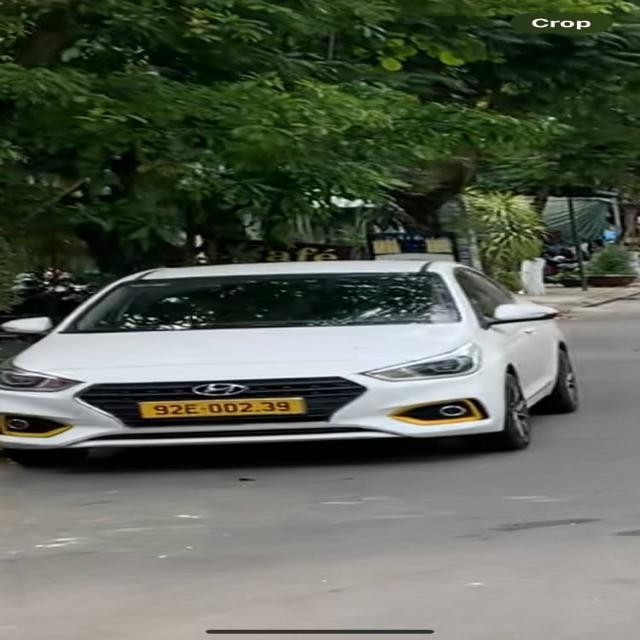car: (0, 247, 592, 486)
plate: (138, 392, 311, 424)
